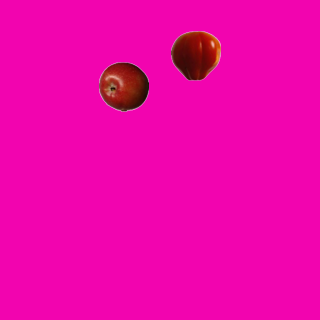Apple Braeburn: (98, 61, 148, 111)
Tomato 1: (170, 30, 220, 80)
